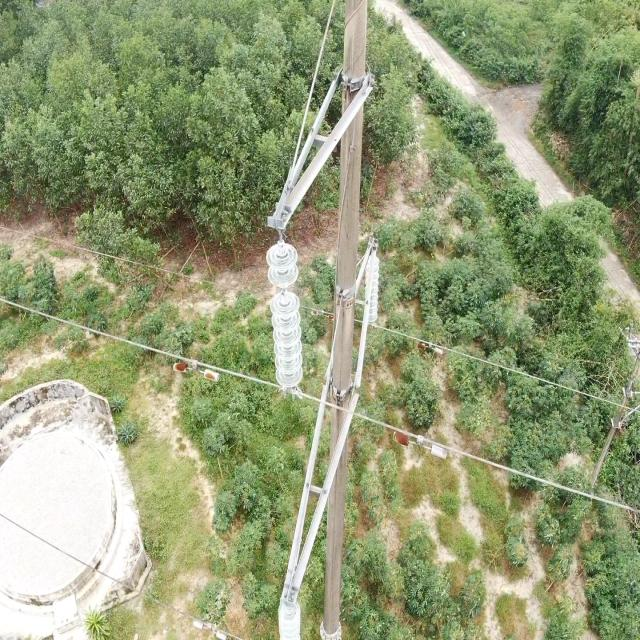杆塔: (258, 4, 397, 640)
正常绝缘子: (264, 240, 310, 402), (363, 246, 382, 331)
绝缘子破损: (277, 288, 289, 295)
